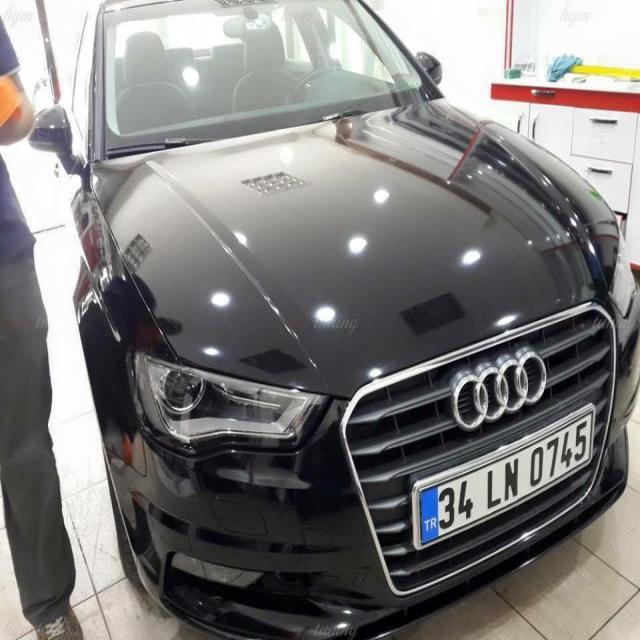plate: (412, 404, 596, 554)
